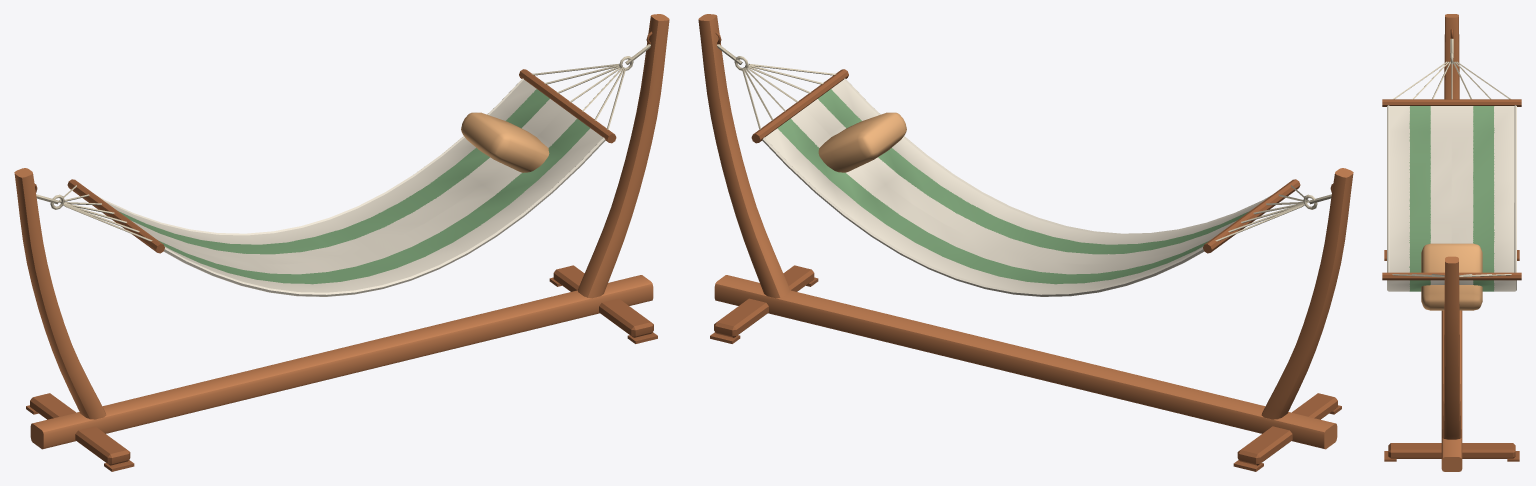
File: gardenHammock.glb
The picture shows the model from 3 angles, left to right: view 1: azimuth 30°, elevation 25°; view 2: azimuth 150°, elevation 25°; view 3: azimuth 270°, elevation 25°; orthographic projection. The views are drawn at different scales.
Parts seen in each view (by area): view 1: sling, body; view 2: sling, body; view 3: sling, body.
Boxes of the visible parts, <box> form: sling: <box>36,44,650,296</box>; body: <box>14,14,669,471</box>; sling: <box>717,44,1331,296</box>; body: <box>698,14,1353,471</box>; sling: <box>1382,38,1521,310</box>; body: <box>1384,14,1519,471</box>.
Size of the model in its own units: 2.88 by 1.18 by 0.68.
